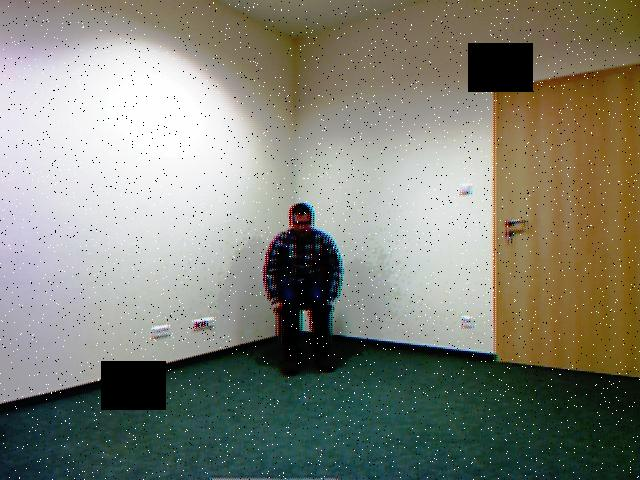sitting: (260, 192, 351, 379)
